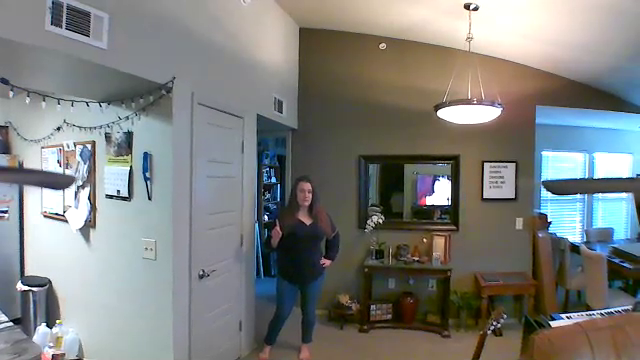up: (267, 217, 284, 239)
